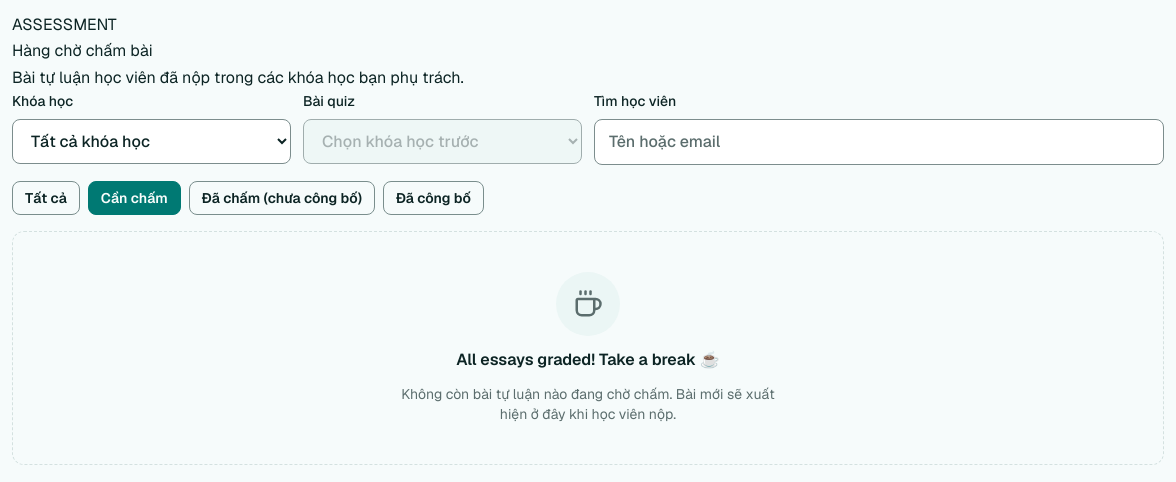
it: GradingQueue screen › celebrates an empty queue, and explains an empty filter
The image size is (1176, 482).
expect the text "All essays graded! Take a break ☕" is shown: met, box [456, 348, 720, 372]
With a filter applied, the same emptiness is a "nothing matches" hint.
Type "zzz" into the field labelled "Tìm học viên" at (879, 142), box [594, 119, 1164, 165]
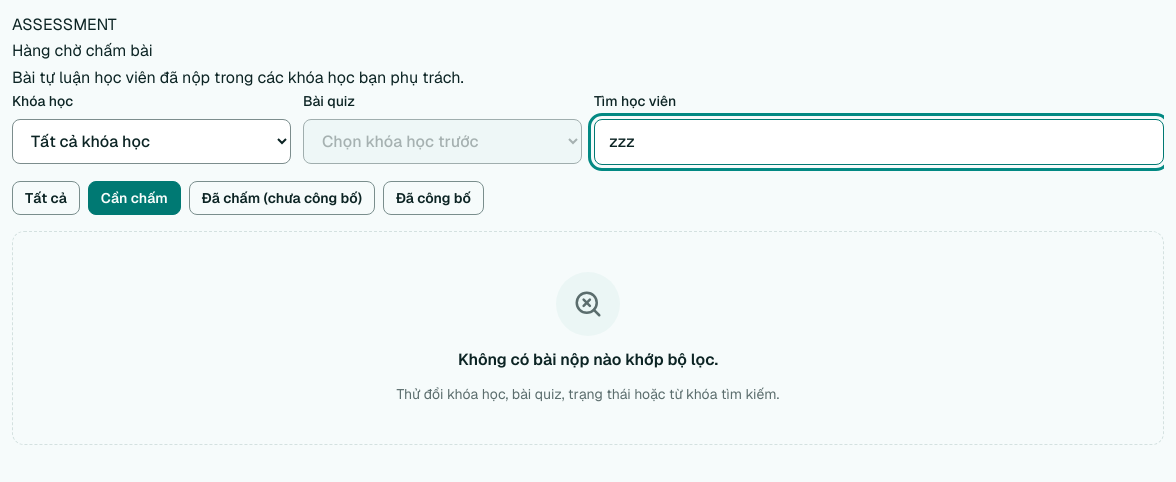
expect the text "Không có bài nộp nào khớp bộ lọc." is shown: met, box [458, 348, 718, 372]
